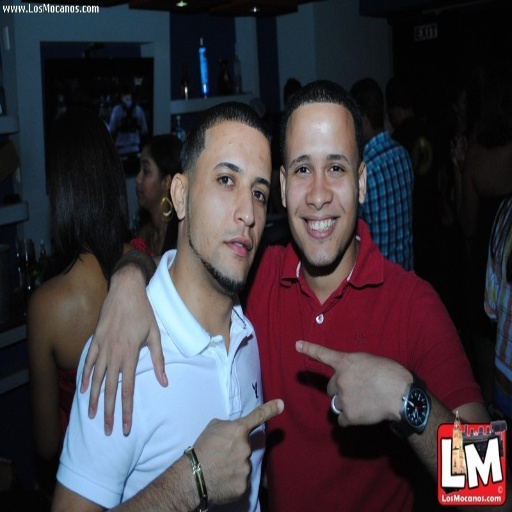hand: (77, 271, 169, 437), (304, 335, 424, 449), (188, 396, 286, 510)
